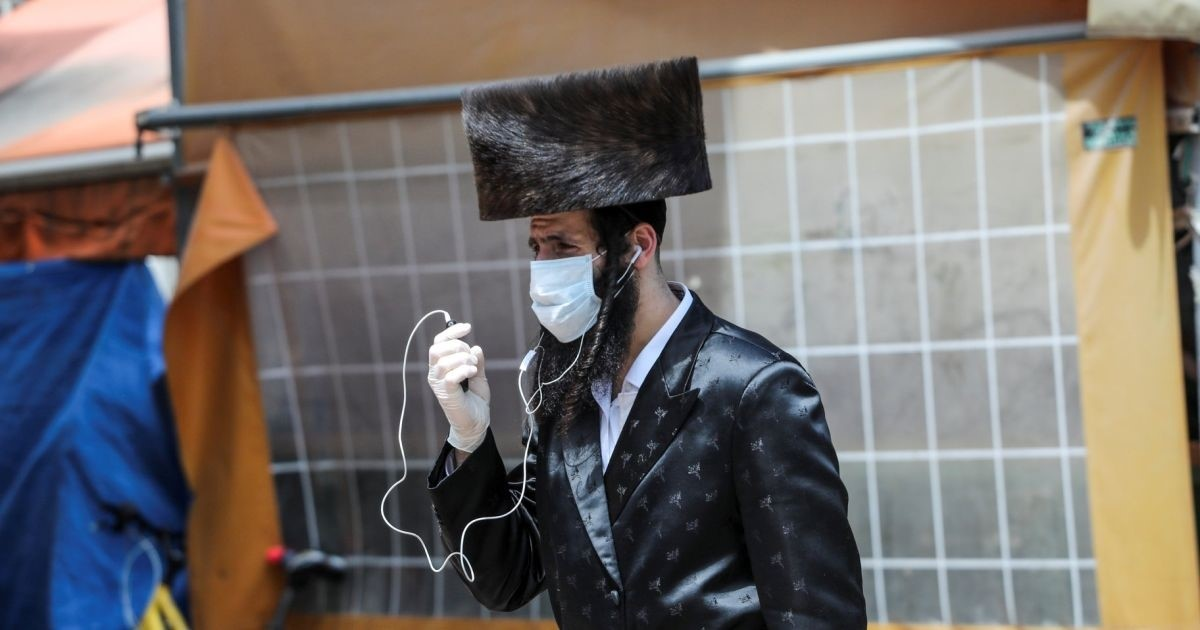face_with_mask: (528, 214, 662, 337)
